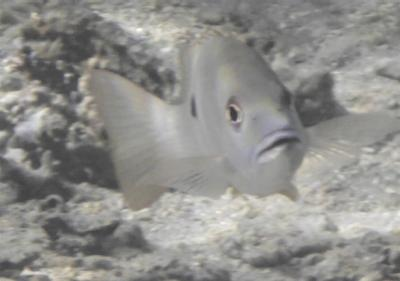Lutjanidae -Snappers-: (84, 32, 396, 222)
